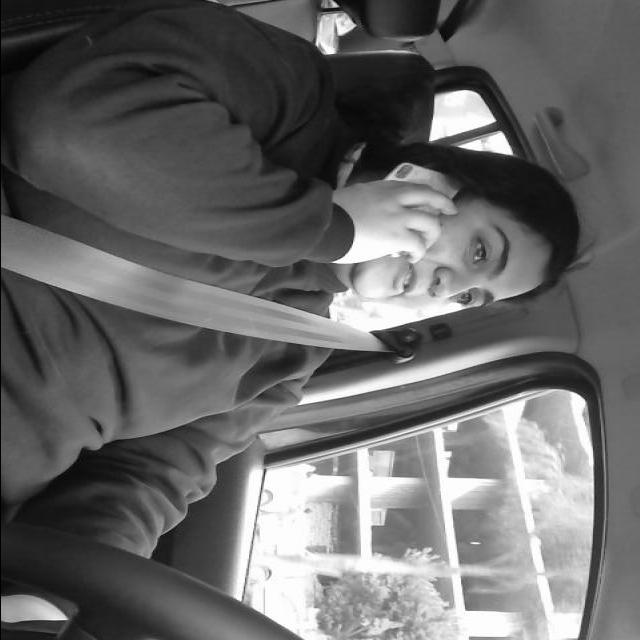mobile use: (352, 154, 468, 242)
